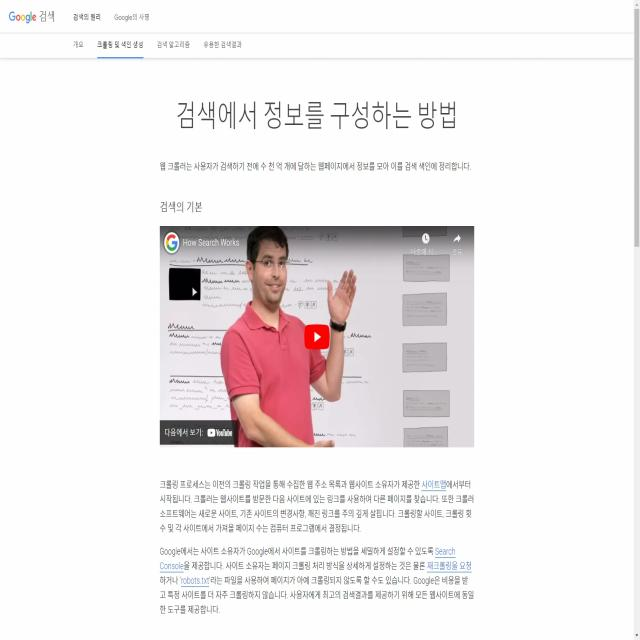menu-bar: (69, 32, 248, 57)
